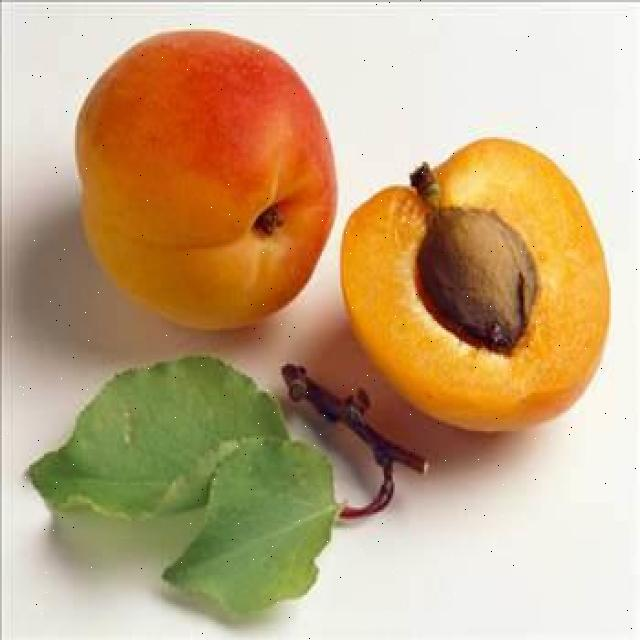kayisi: (347, 104, 640, 461), (50, 10, 343, 340)
kayisi cekirdegi: (388, 140, 558, 369)
yaprak: (13, 349, 441, 636)
